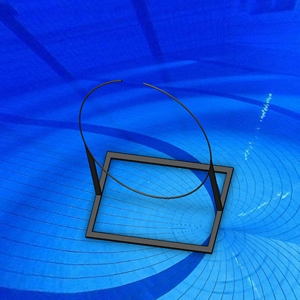circle: (77, 79, 236, 255)
